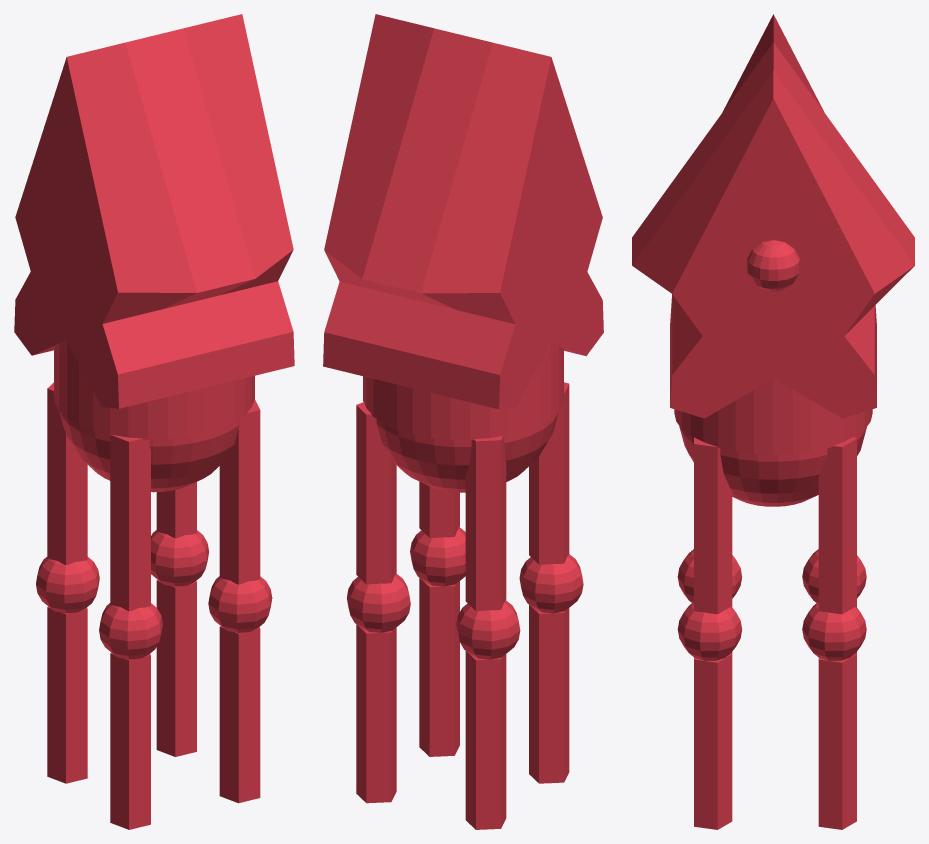
3 views of the same model, side by side, from view 1: azimuth 30°, elevation 25°; view 2: azimuth 150°, elevation 25°; view 3: azimuth 270°, elevation 25° (orthographic).
Visible parts, largest first — view 1: Cube.001; view 2: Cube.001; view 3: Cube.001.
Part boxes in pixels (x1,y1,x2,y2): Cube.001: (14, 14, 294, 829); Cube.001: (323, 14, 603, 829); Cube.001: (632, 14, 914, 829).
Size of the model in its own units: 227 by 822 by 285.
